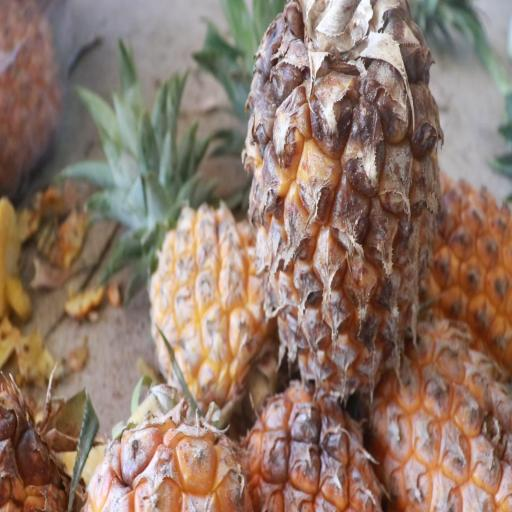Pineapple - v8 v1: (230, 0, 446, 404), (146, 74, 275, 414), (364, 318, 512, 512), (64, 372, 242, 512), (228, 363, 374, 512)
